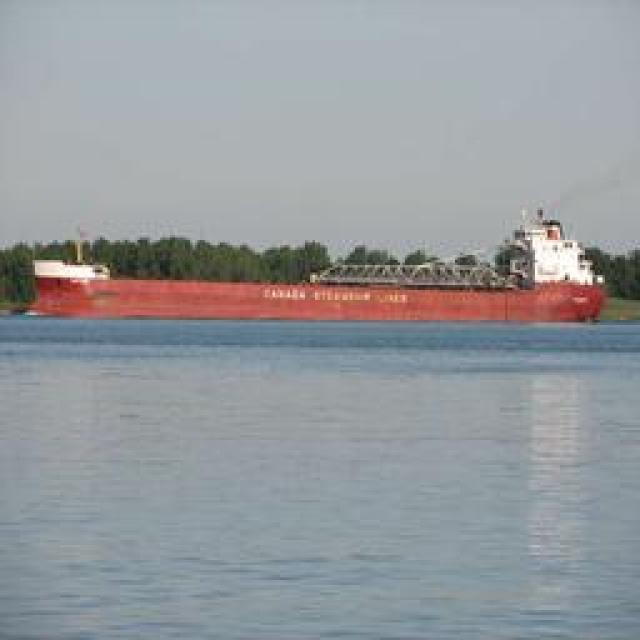CIV_Ship: (200, 199, 598, 329)
